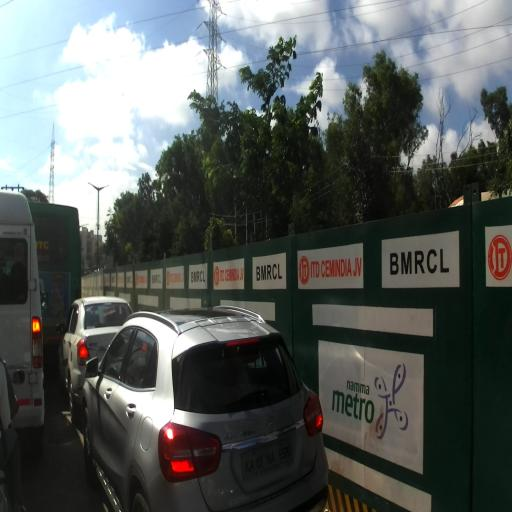street_light_0: (88, 180, 100, 194), (97, 185, 110, 194), (79, 224, 89, 230)
